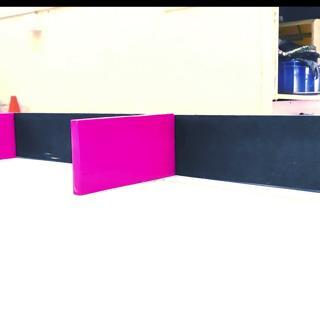xparking: (73, 119, 174, 188), (0, 114, 14, 160)
